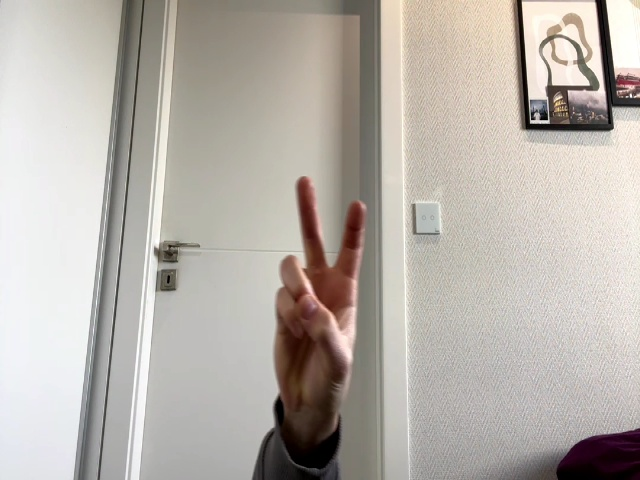H: (273, 177, 366, 401)
